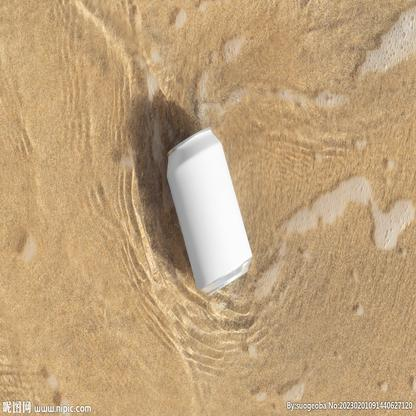can: (161, 126, 254, 297)
